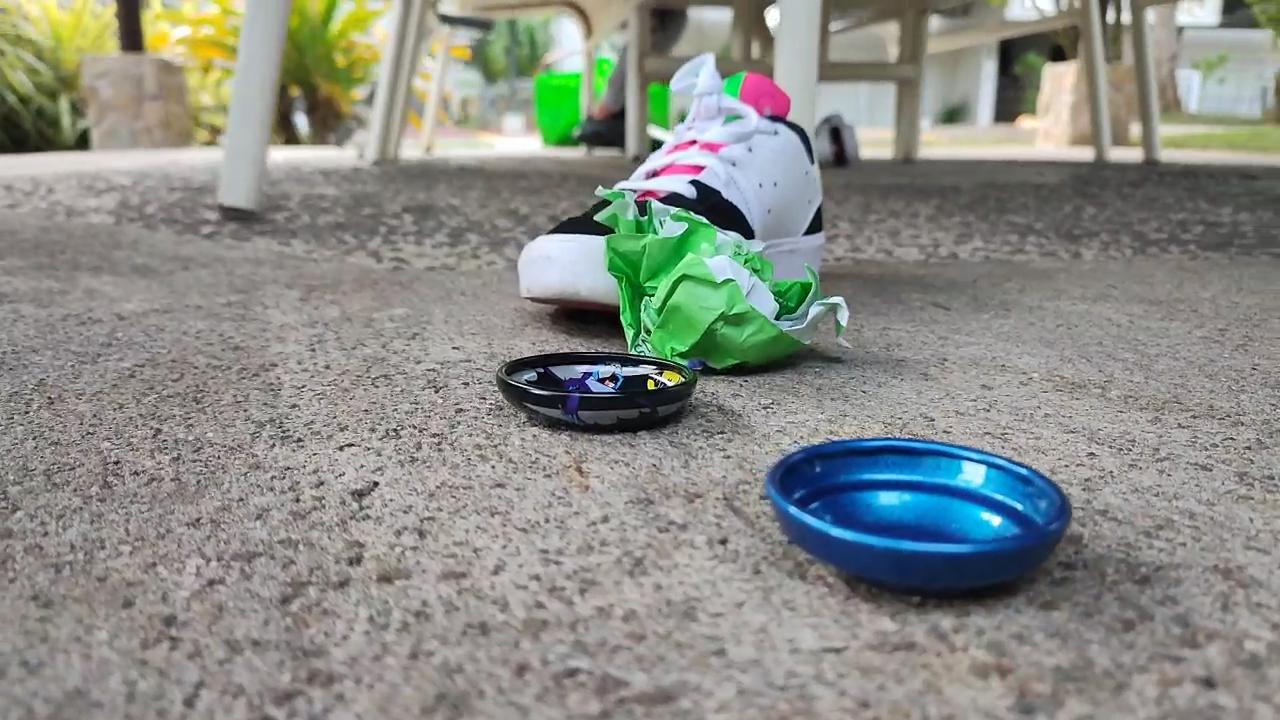Paper: (596, 188, 864, 382)
